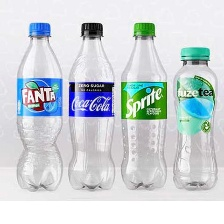bottle: (64, 15, 120, 193), (9, 17, 65, 195), (117, 15, 171, 192), (170, 40, 220, 192)
